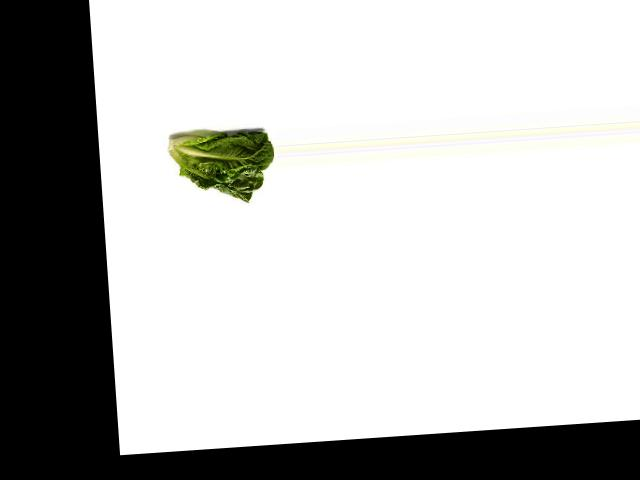lettuce: (161, 112, 277, 208)
